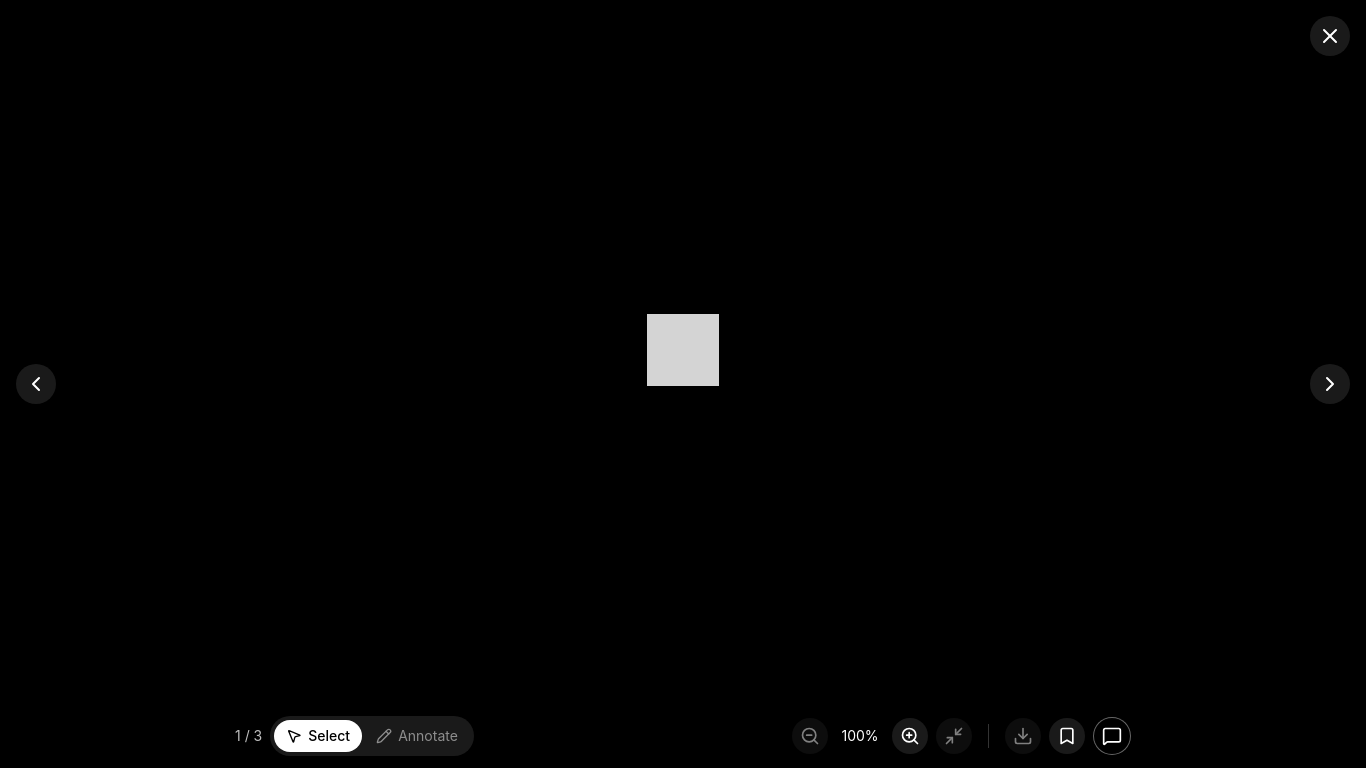
Test case: PhotoLightbox — Select / Annotate bar (issue 1733, E1) › saves a favourite from the bar
The image size is (1366, 768).
Click the button named "Add to favorites" at [1067, 736], box [1049, 718, 1085, 754]
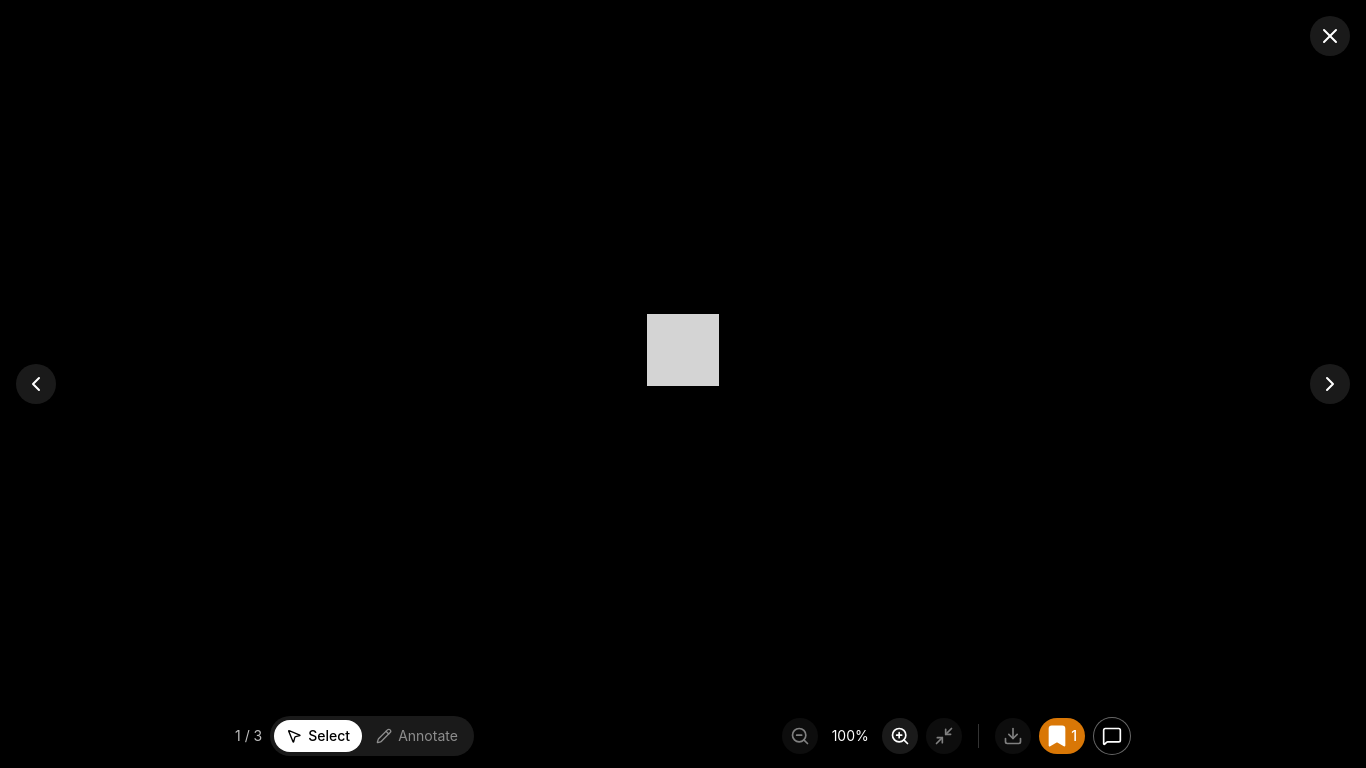
Expected: the button named "Remove from favorites" is shown, [1039, 718, 1085, 754]
